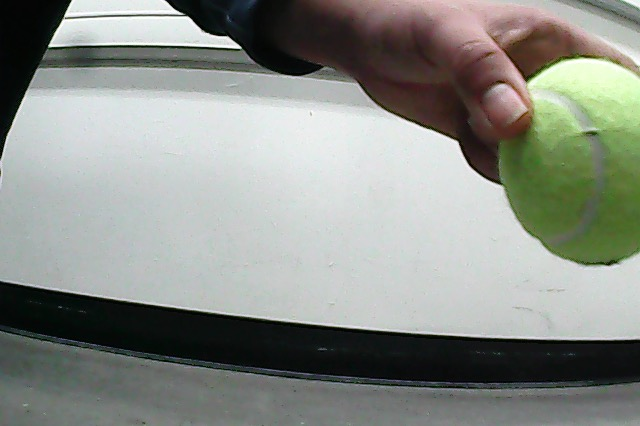ball: (498, 58, 640, 266)
